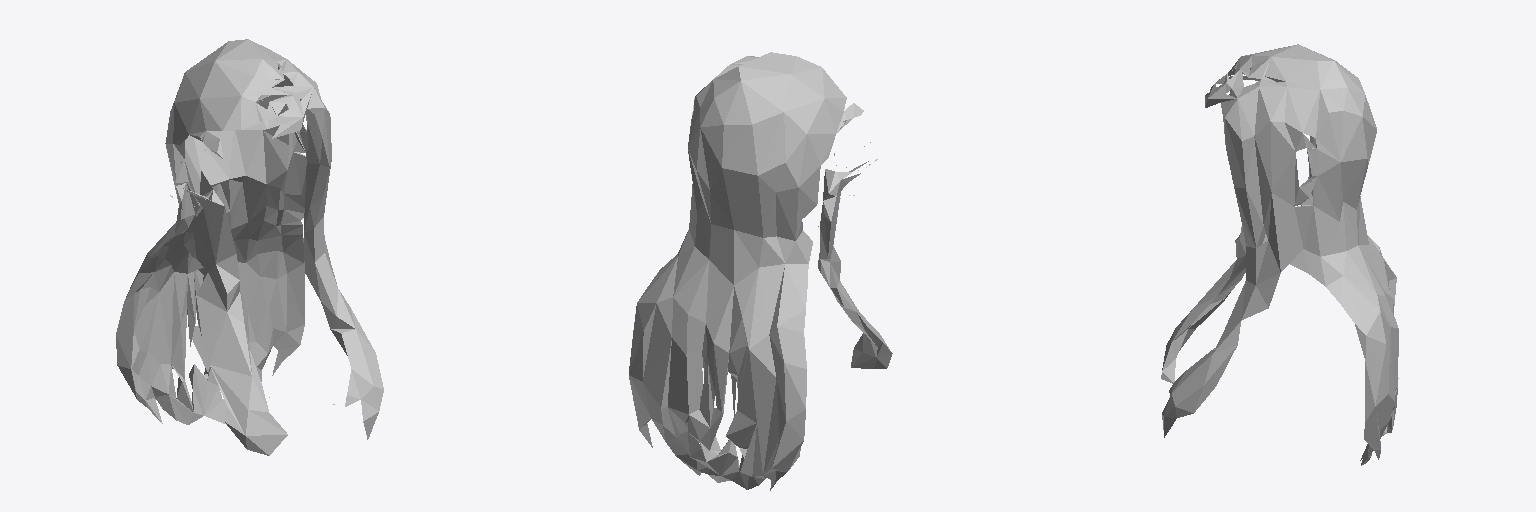
Rendered from hair female 5.obj.
3 renders of one model, left to right at view 1: azimuth 30°, elevation 25°; view 2: azimuth 150°, elevation 25°; view 3: azimuth 270°, elevation 25°, orthographic.
Parts seen in each view (by area): view 1: Object.001_Mesh; view 2: Object.001_Mesh; view 3: Object.001_Mesh.
Boxes of the visible parts, x1,y1,x2,y2 form: Object.001_Mesh: [116, 39, 383, 455]; Object.001_Mesh: [629, 52, 892, 490]; Object.001_Mesh: [1161, 44, 1398, 465].
Bounding box in the file's own units: 0.5176 × 1.08 × 0.5803.